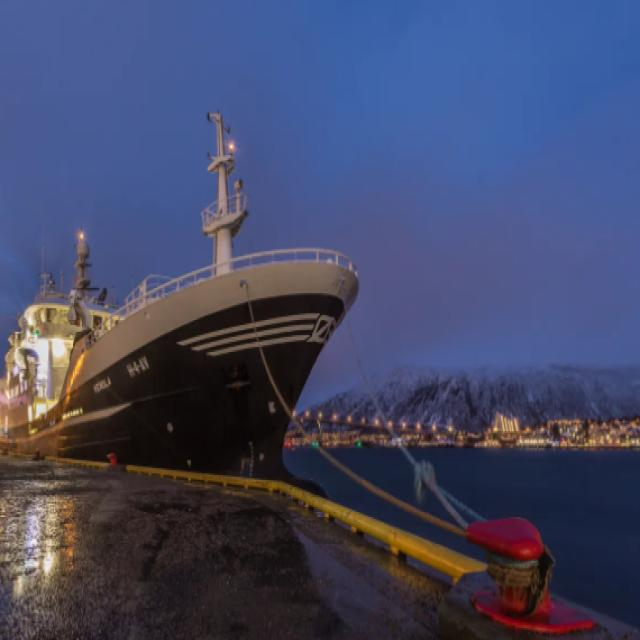passenger ship: (0, 82, 353, 466)
